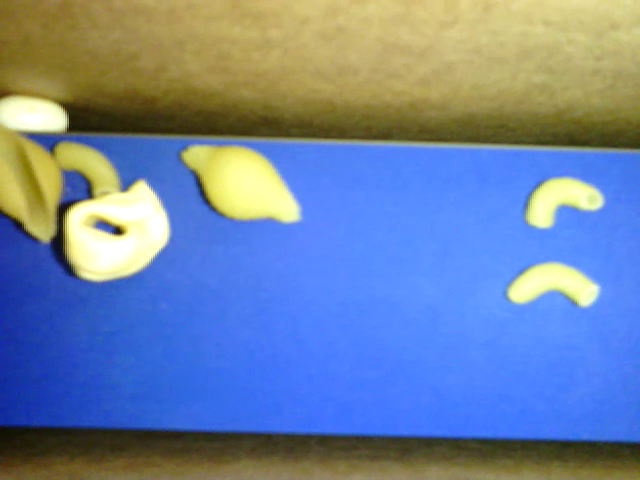elbow: (506, 259, 599, 308), (526, 176, 604, 228), (53, 141, 119, 200)
shell: (181, 143, 301, 222), (1, 120, 62, 244)
tortellini: (64, 176, 169, 281)
